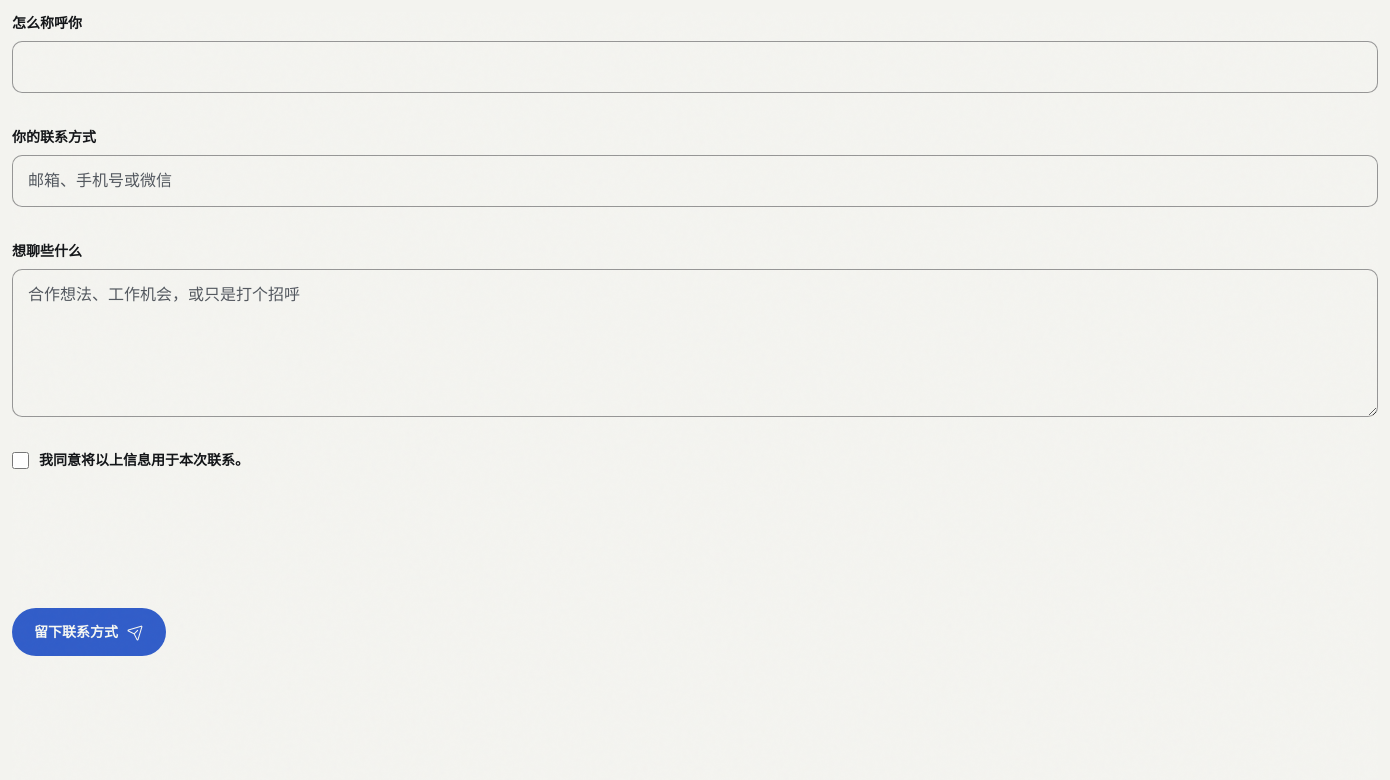
it: ContactForm › keeps typed values when the service asks for a retry
Type "林先生" into the field labelled "怎么称呼你".
click(695, 67); type("林先生")  # box [12,41,1378,93]
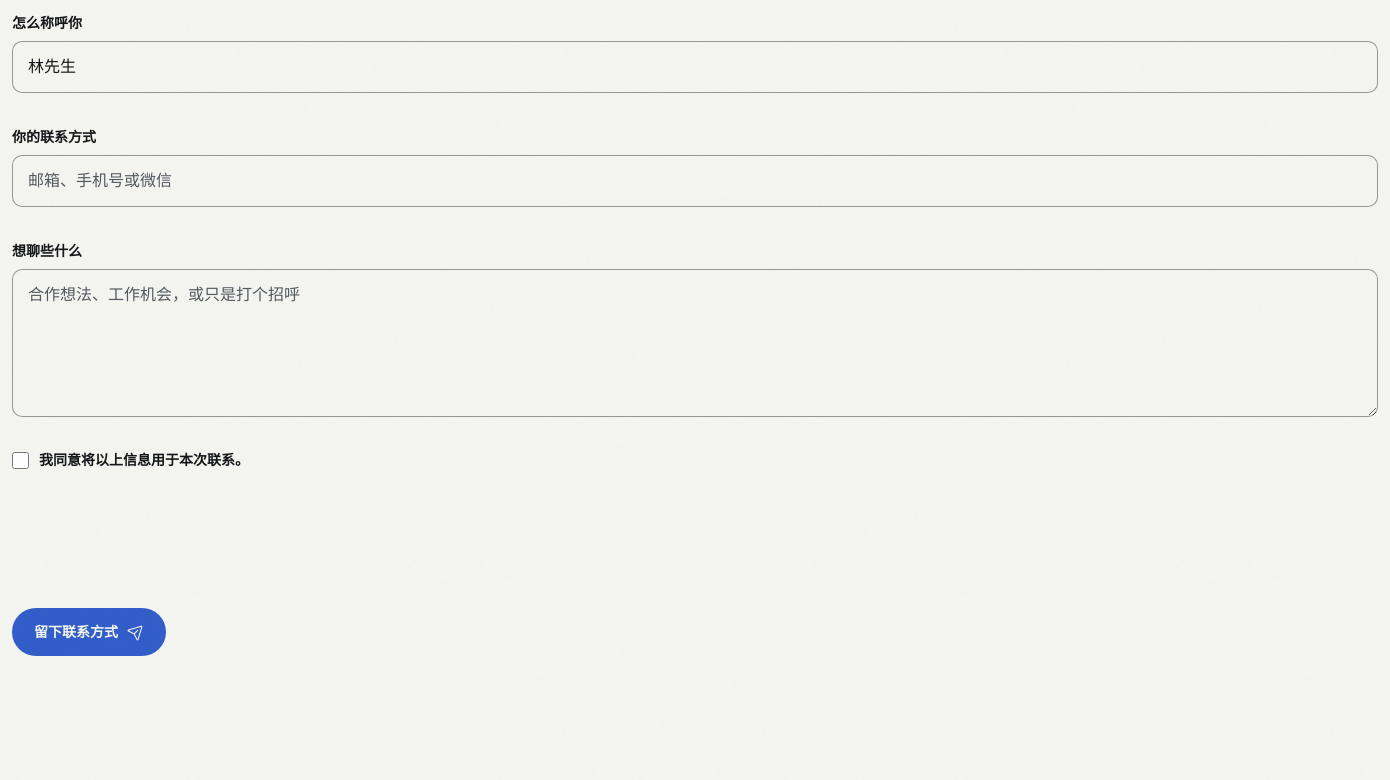
Type "lin@example.com" into the field labelled "你的联系方式".
click(695, 181); type("lin@example.com")  # box [12,155,1378,207]
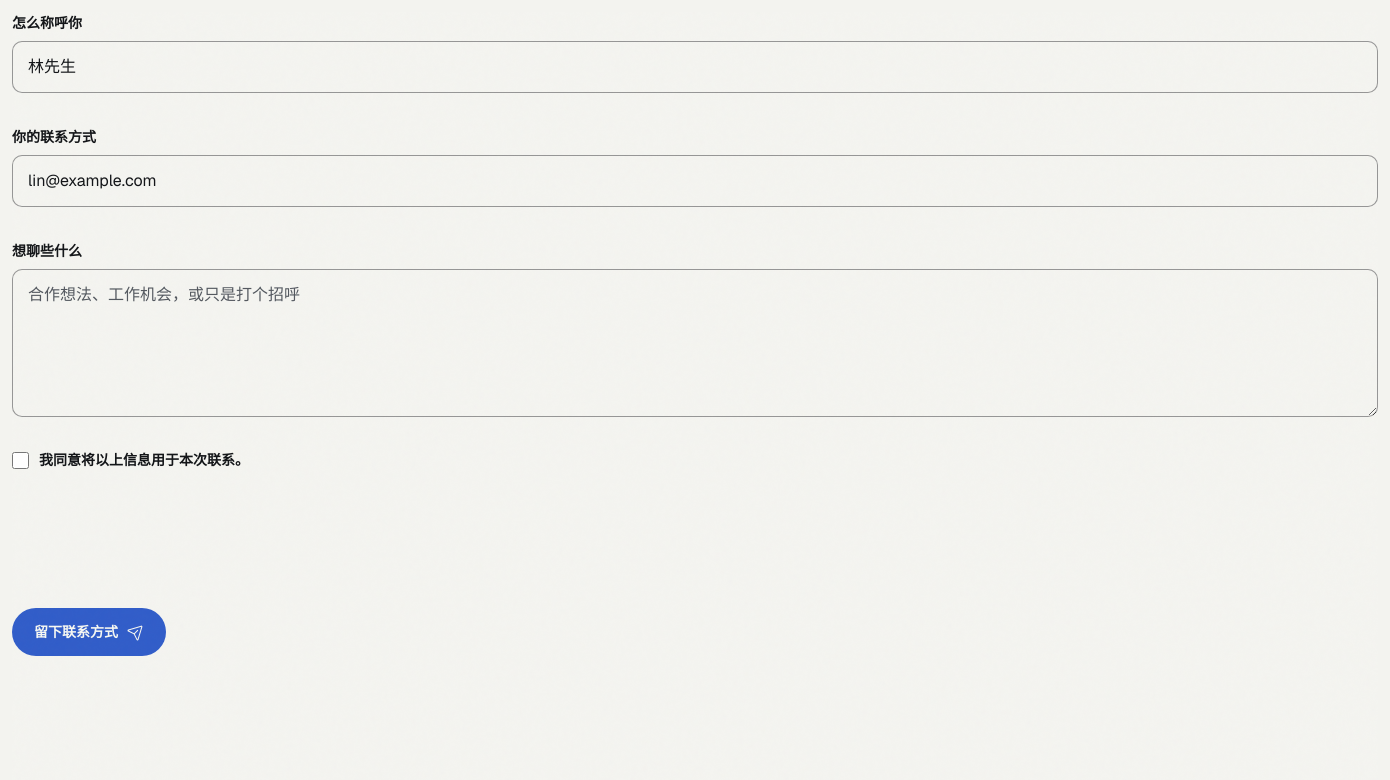
Click the checkbox labelled "我同意将以上信息用于本次联系。".
click(20, 460)  # box [12,452,29,469]
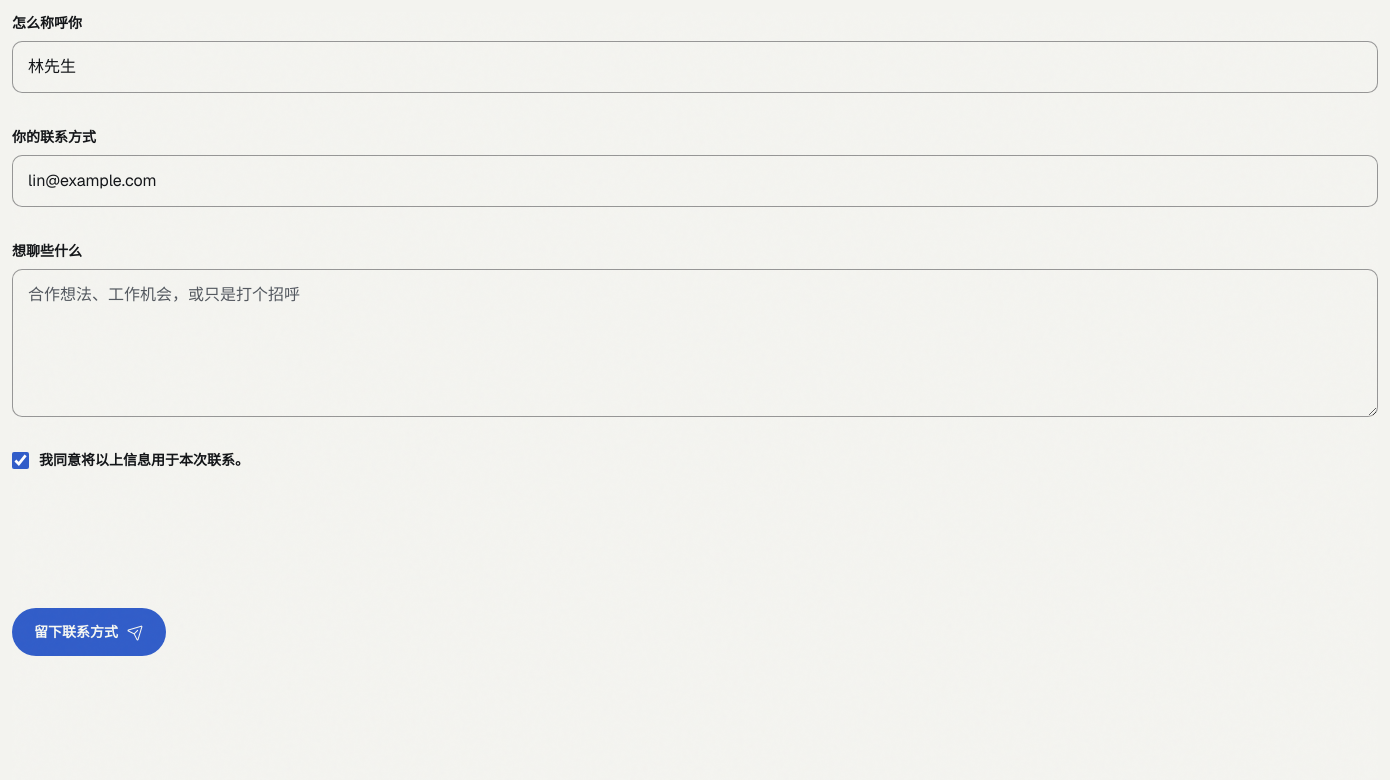
Click the button "留下联系方式".
click(89, 632)  # box [12,608,166,656]
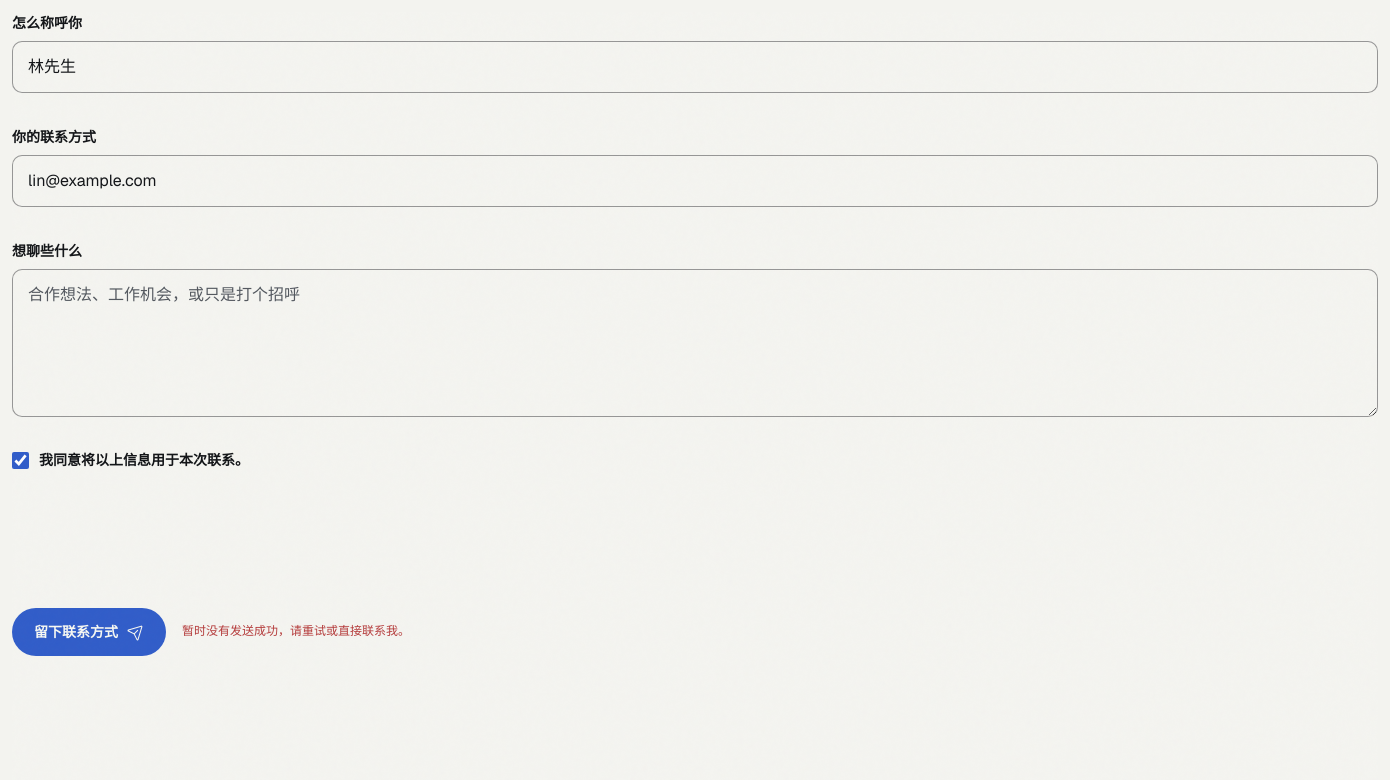
Result: the text "暂时没有发送成功，请重试或直接联系我。" is shown at [182,622,410,642]
